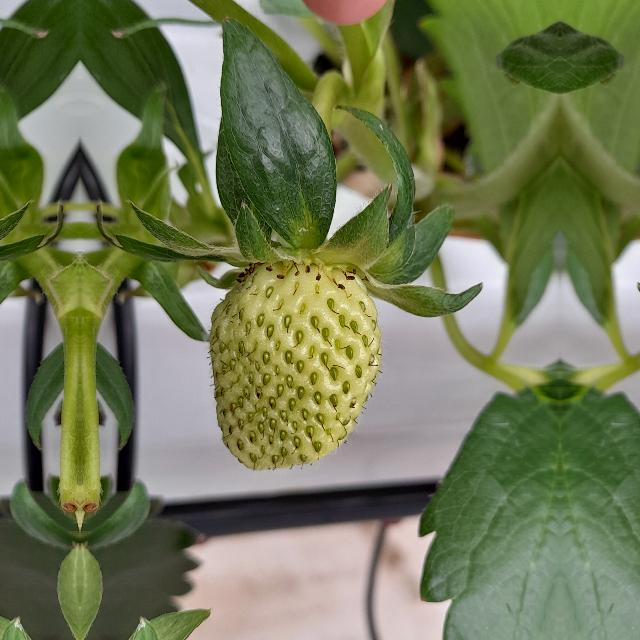Health_25: (208, 262, 382, 470)
